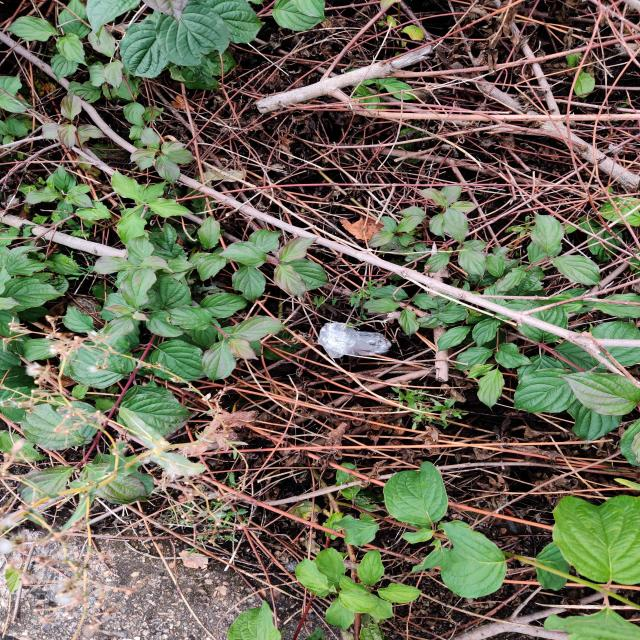litter: (297, 315, 399, 360)
